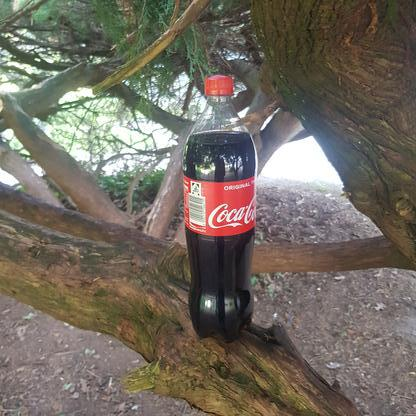coca-cola: (182, 72, 259, 344)
